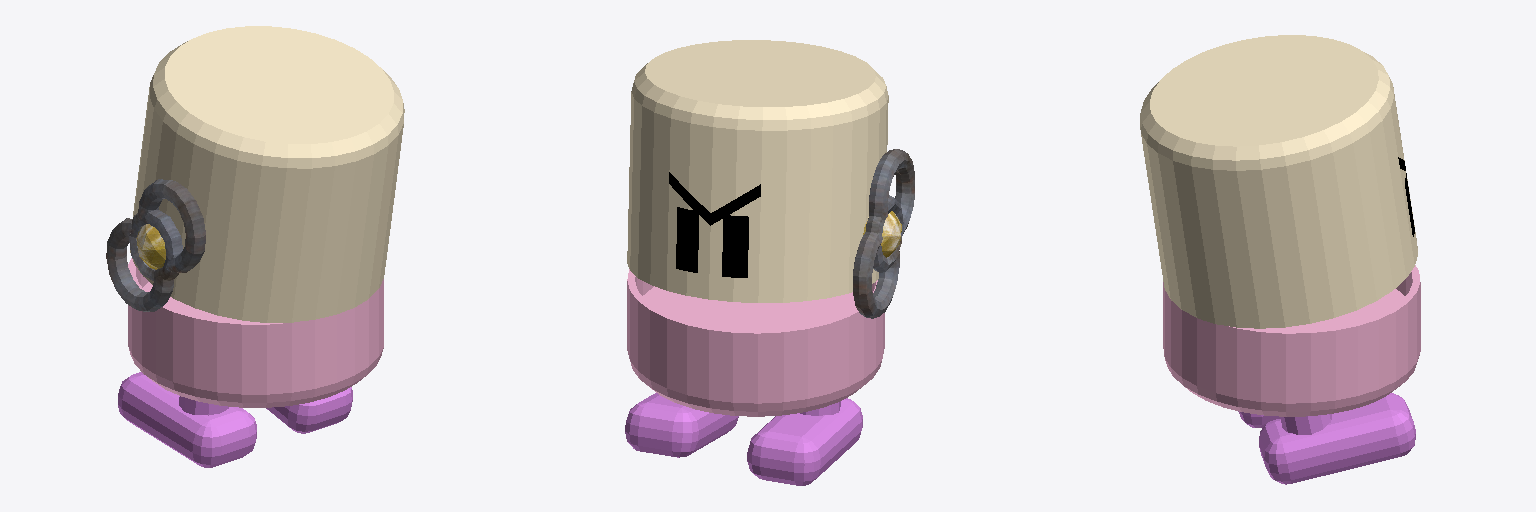
The picture shows the model from 3 angles: view 1: azimuth 30°, elevation 25°; view 2: azimuth 150°, elevation 25°; view 3: azimuth 270°, elevation 25°; orthographic projection.
Visible parts, largest first — view 1: Head, Jaw, WindupKey, LeftLeg, RightLeg; view 2: Head, Jaw, LeftLeg, WindupKey, RightLeg; view 3: Head, Jaw, RightLeg.
Boxes of the visible parts, x1=… form: Head: x1=130, y1=26, x2=404, y2=322; Jaw: x1=128, y1=258, x2=383, y2=407; WindupKey: x1=106, y1=179, x2=205, y2=311; LeftLeg: x1=118, y1=372, x2=256, y2=467; RightLeg: x1=266, y1=387, x2=352, y2=433; Head: x1=627, y1=40, x2=888, y2=302; Jaw: x1=627, y1=269, x2=884, y2=416; LeftLeg: x1=747, y1=398, x2=862, y2=485; WindupKey: x1=853, y1=149, x2=914, y2=318; RightLeg: x1=625, y1=393, x2=738, y2=457; Head: x1=1140, y1=35, x2=1417, y2=328; Jaw: x1=1163, y1=265, x2=1420, y2=416; RightLeg: x1=1259, y1=393, x2=1415, y2=484.
Bounding box in the file's own units: 113 × 161 × 109.
6 materials, 2 textured.